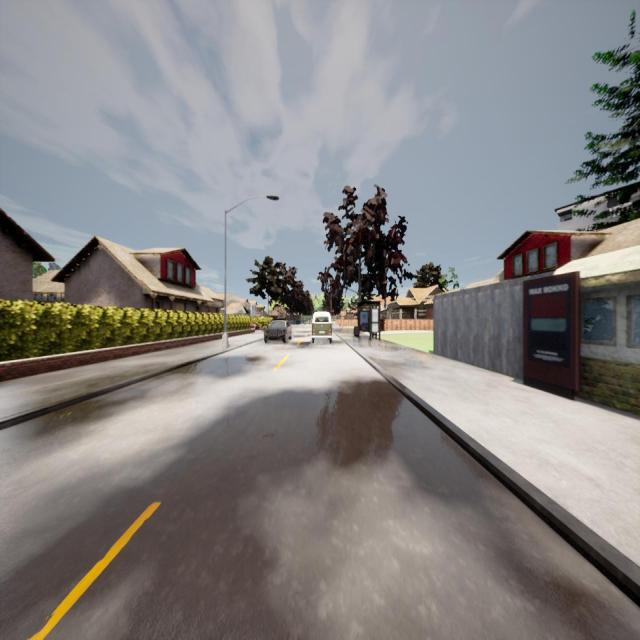Vehicle: (264, 318, 292, 344), (311, 312, 332, 344), (251, 322, 259, 332)
traffic_light: (332, 308, 334, 316)
